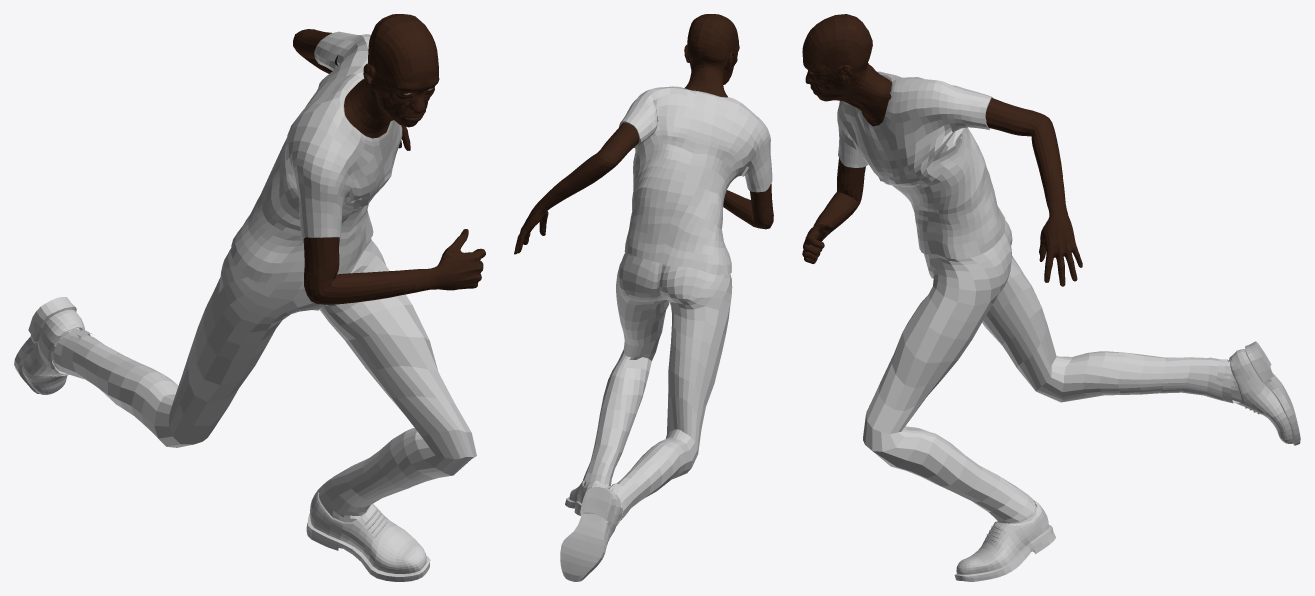
3 renders of one model, left to right at view 1: azimuth 30°, elevation 25°; view 2: azimuth 150°, elevation 25°; view 3: azimuth 270°, elevation 25°, orthographic. The views are drawn at different scales.
Visible parts, largest first — view 1: human2; view 2: human2; view 3: human2.
Boxes of the visible parts, x1,y1,x2,y2 form: human2: [14, 14, 485, 581]; human2: [514, 14, 773, 581]; human2: [802, 14, 1300, 581].
Size of the model in its own units: 8.6 by 20.78 by 17.66.
